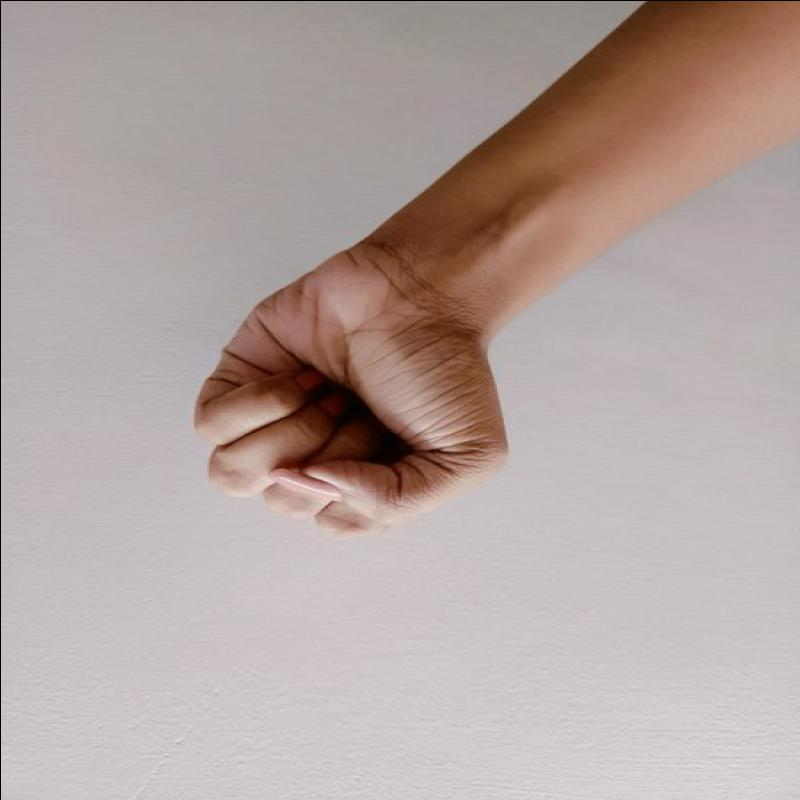Mushti: (156, 266, 534, 548)
